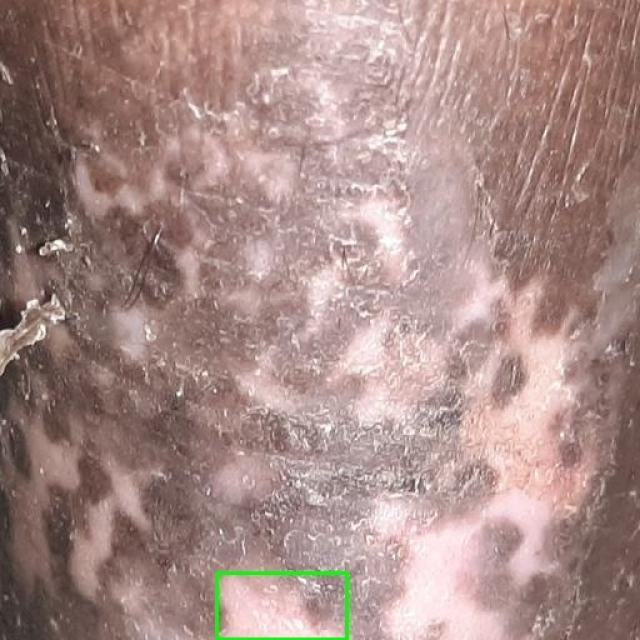Eczema: (216, 572, 346, 639)
